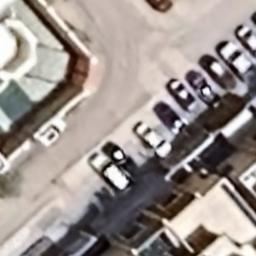SUV: (89, 155, 132, 193), (207, 58, 236, 90), (38, 118, 68, 148)
sedan: (217, 40, 256, 81), (134, 122, 172, 158), (186, 70, 218, 104), (168, 80, 198, 112), (235, 24, 256, 56)
unknown: (154, 102, 188, 134), (107, 146, 137, 176)
